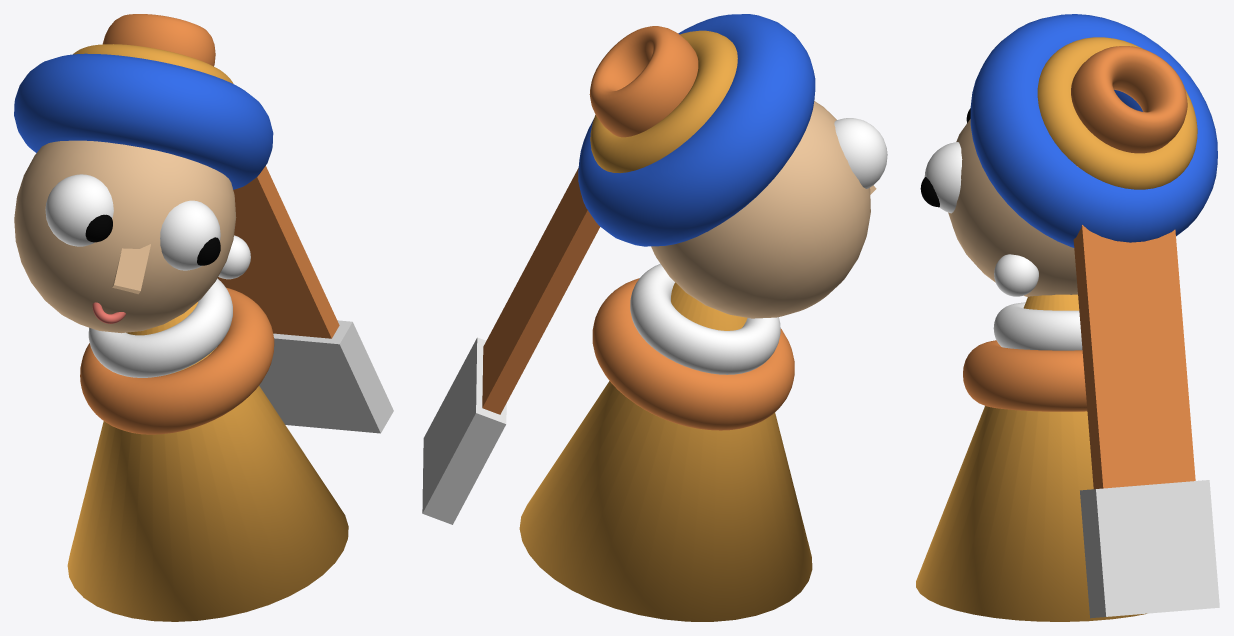
File: work.glb
3 renders of one model, left to right at view 1: azimuth 30°, elevation 25°; view 2: azimuth 150°, elevation 25°; view 3: azimuth 270°, elevation 25°, orthographic. The views are drawn at different scales.
Visible parts, largest first — view 1: body, face, maoyanL.001, yilingL.004, hairL.002, hair.001, yilingS.005, maoyanS.003, eye.001, eye.002, maoyanM.002, bizi (+2 smaller); view 2: body, maoyanL.001, face, yilingL.004, hair.001, maoyanS.003, hairL.002, yilingS.005, maoyanM.002, eye.001; view 3: body, maoyanL.001, hair.001, hairL.002, maoyanS.003, maoyanM.002, face, yilingL.004, yilingS.005, eye.002, er.005.
Part boxes in pixels (x1=…): body: x1=67, y1=302, x2=348, y2=621; face: x1=14, y1=140, x2=236, y2=333; maoyanL.001: x1=14, y1=53, x2=273, y2=189; yilingL.004: x1=80, y1=287, x2=274, y2=434; hairL.002: x1=259, y1=320, x2=393, y2=433; hair.001: x1=217, y1=166, x2=339, y2=338; yilingS.005: x1=88, y1=278, x2=232, y2=377; maoyanS.003: x1=102, y1=14, x2=215, y2=66; eye.001: x1=45, y1=174, x2=113, y2=246; eye.002: x1=160, y1=200, x2=220, y2=270; maoyanM.002: x1=73, y1=44, x2=233, y2=83; bizi: x1=112, y1=244, x2=150, y2=294; body: x1=519, y1=282, x2=812, y2=621; maoyanL.001: x1=578, y1=14, x2=815, y2=246; face: x1=651, y1=101, x2=870, y2=318; yilingL.004: x1=592, y1=278, x2=794, y2=430; hair.001: x1=482, y1=168, x2=599, y2=414; maoyanS.003: x1=589, y1=26, x2=698, y2=137; hairL.002: x1=422, y1=337, x2=506, y2=524; yilingS.005: x1=630, y1=264, x2=780, y2=374; maoyanM.002: x1=590, y1=30, x2=737, y2=173; eye.001: x1=834, y1=118, x2=887, y2=188; body: x1=916, y1=294, x2=1146, y2=621; maoyanL.001: x1=970, y1=14, x2=1217, y2=247; hair.001: x1=1073, y1=166, x2=1195, y2=489; hairL.002: x1=1080, y1=480, x2=1219, y2=618; maoyanS.003: x1=1071, y1=46, x2=1187, y2=153; maoyanM.002: x1=1037, y1=37, x2=1197, y2=189; face: x1=948, y1=119, x2=1077, y2=296; yilingL.004: x1=963, y1=340, x2=1087, y2=411; yilingS.005: x1=993, y1=302, x2=1082, y2=350; eye.002: x1=924, y1=142, x2=962, y2=213; er.005: x1=994, y1=254, x2=1038, y2=296.
Bounding box in the file's own units: 4.18 × 5.51 × 2.79.
